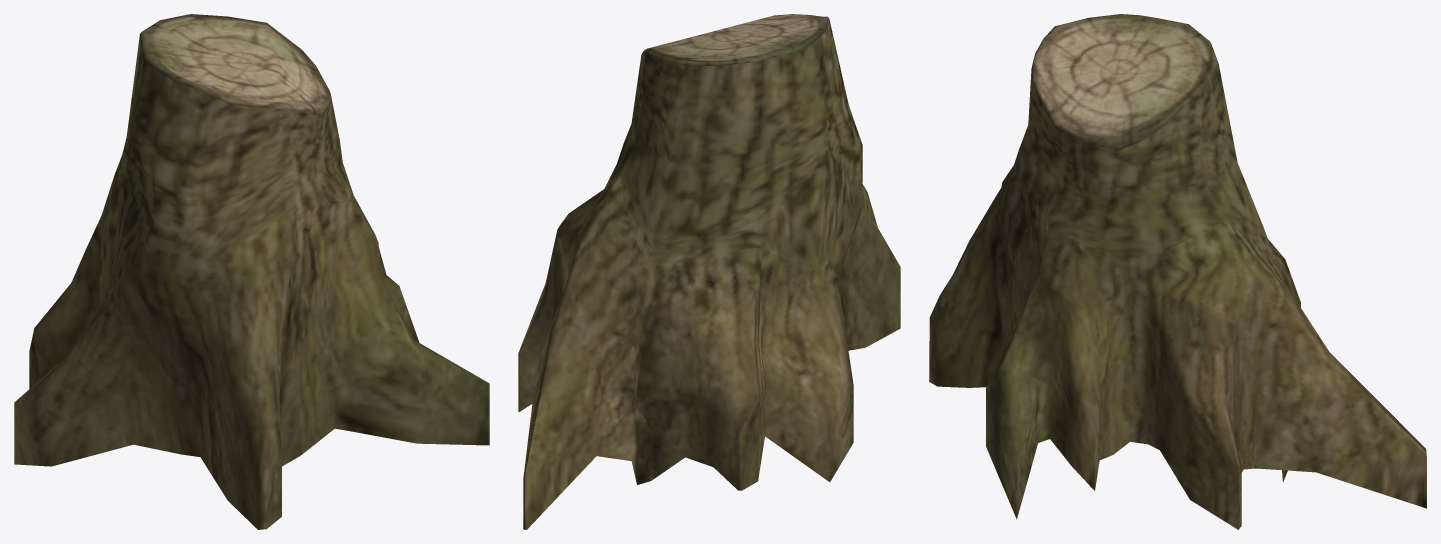
File: Stump.fbx
The picture shows the model from 3 angles, left to right: view 1: azimuth 30°, elevation 25°; view 2: azimuth 150°, elevation 25°; view 3: azimuth 270°, elevation 25°; orthographic projection. The views are drawn at different scales.
Visible parts, largest first — view 1: Stump_LOD0; view 2: Stump_LOD0; view 3: Stump_LOD0.
Part boxes in pixels (left/top/right/bottom): Stump_LOD0: left=14, top=14, right=489, bottom=529; Stump_LOD0: left=518, top=14, right=900, bottom=529; Stump_LOD0: left=929, top=14, right=1426, bottom=529.
Size of what is drawn, in the model's own units: 0.7385 by 0.9 by 0.9535.
1 material, 1 textured.
